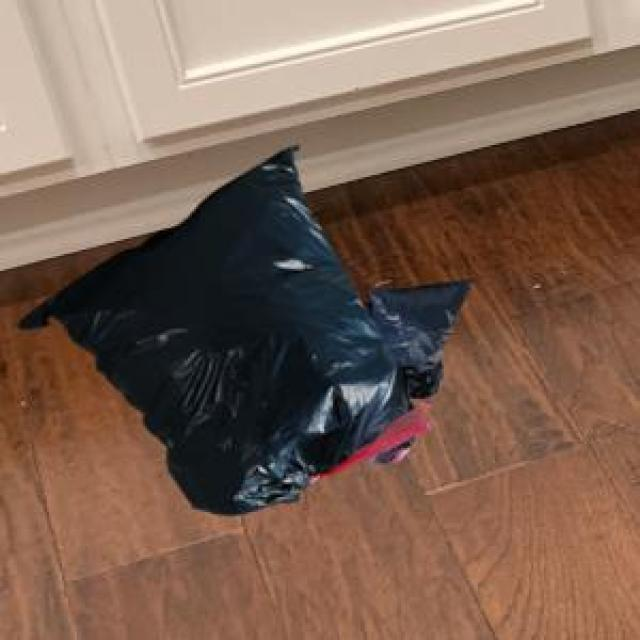miscellaneous trash: (15, 143, 427, 510), (351, 275, 466, 461)
